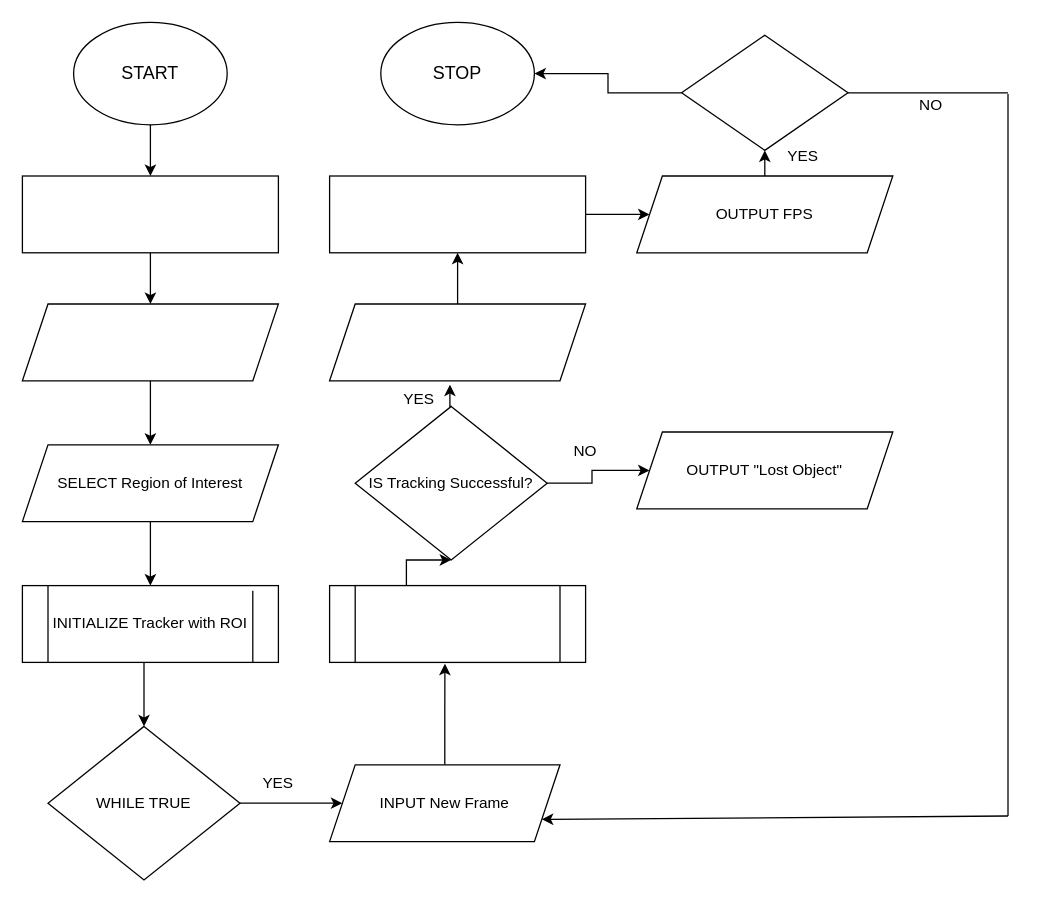
Image size: 1041x902. Some labels were removed from this diagram. Here are the shapes that lost their labels. From the top down, the centre of each, then its label:
At [764,92]: "IS 'q' Key Pressed?".
At [149,214]: "INITIALIZE Video Capture, Tracker".
At [149,342]: "READ Initial Frame".
At [457,342]: "OUTPUT Bounding Box".
At [457,623]: "UPDATE Tracker with New Frame".
